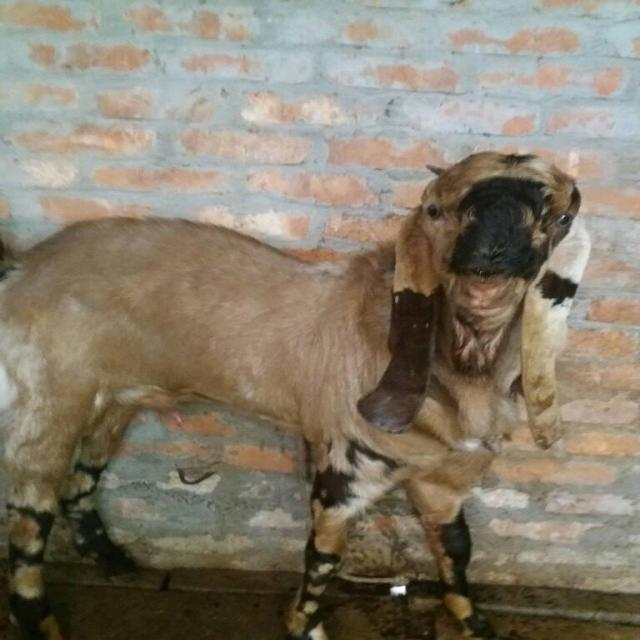Goat: (0, 149, 590, 639)
